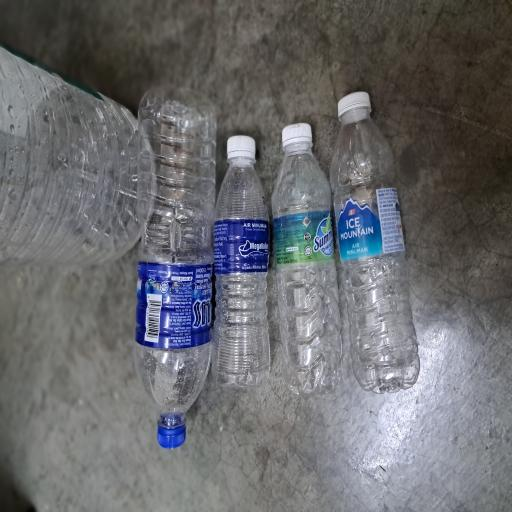plastic bottle: (184, 0, 353, 209), (65, 178, 320, 290), (87, 361, 276, 454), (88, 438, 305, 512), (92, 282, 265, 362)
plastic bottle cap: (292, 451, 316, 496), (271, 376, 292, 418), (48, 209, 67, 248), (266, 302, 284, 341)
